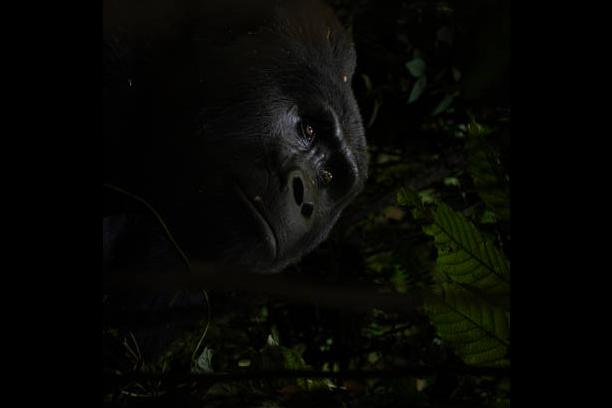gorille_Autres: (102, 0, 407, 336)
